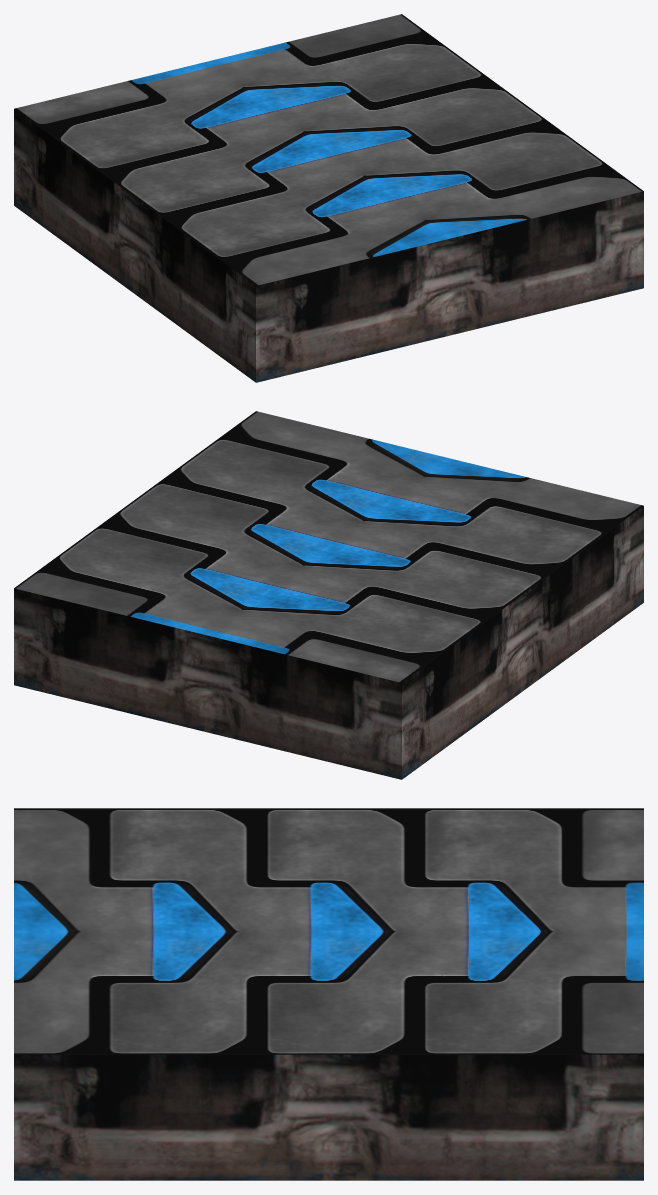
File: belt-I.glb
3 views of the same model, one above another, from view 1: azimuth 30°, elevation 25°; view 2: azimuth 150°, elevation 25°; view 3: azimuth 270°, elevation 25° (orthographic). The views are drawn at different scales.
Visible parts, largest first — view 1: Cube; view 2: Cube; view 3: Cube.
Boxes of the visible parts, <box> form: Cube: <box>14,14,643,382</box>; Cube: <box>14,411,643,779</box>; Cube: <box>14,808,643,1180</box>.
Size of the model in its own units: 1.85 by 0.4418 by 2.
2 materials, 2 textured.
